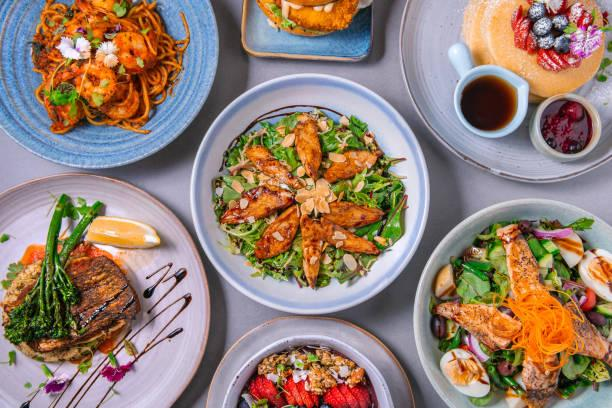Braised Crucian Carp: (189, 73, 428, 314), (0, 171, 212, 408), (412, 198, 611, 408), (400, 2, 608, 185), (2, 2, 216, 168), (202, 314, 415, 406)
